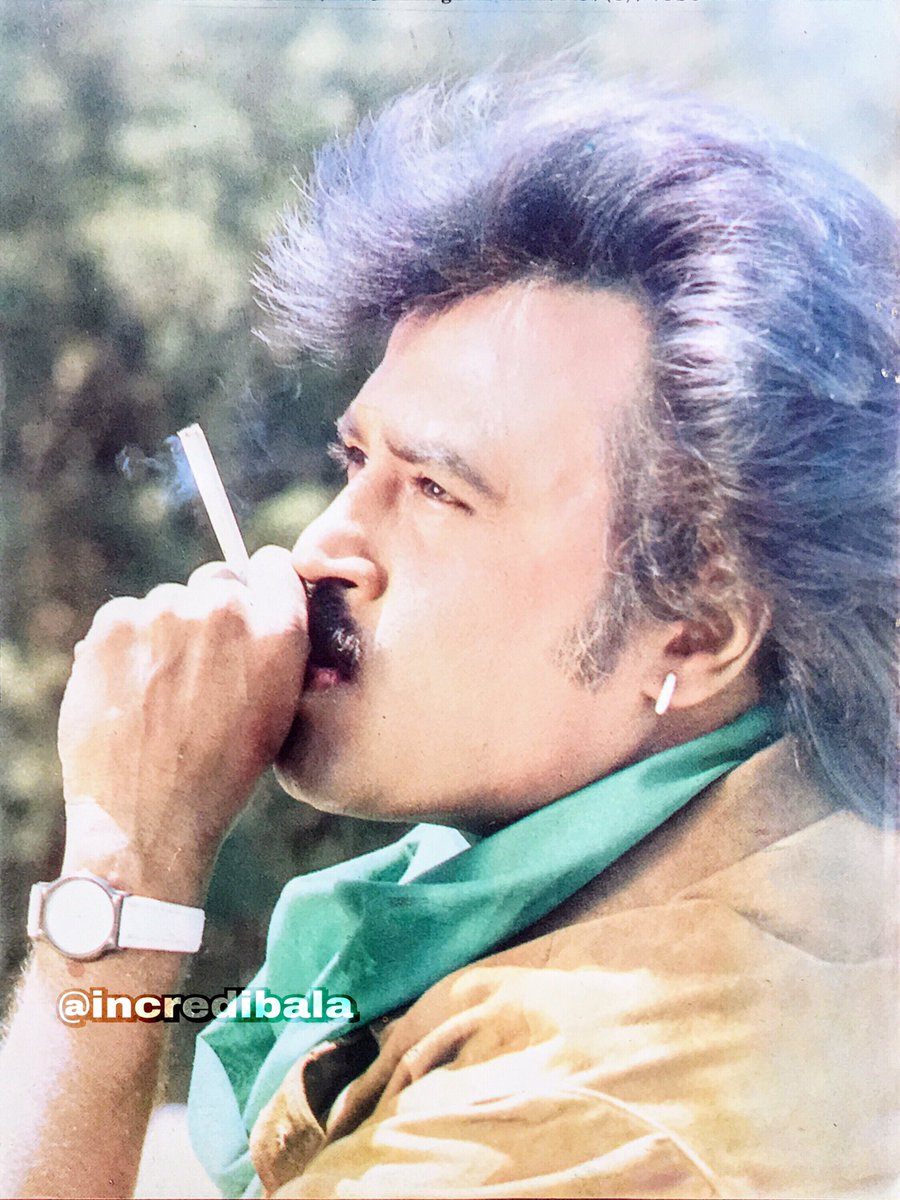cigarette: (167, 422, 258, 574)
